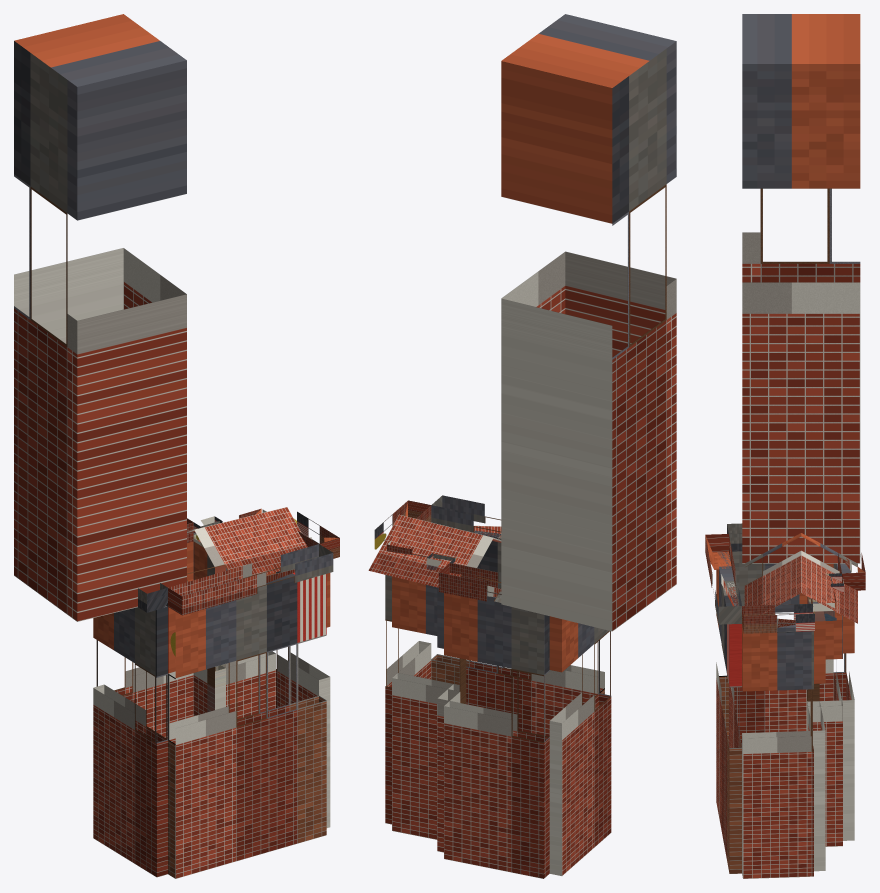
3 views of the same model, side by side, from view 1: azimuth 30°, elevation 25°; view 2: azimuth 150°, elevation 25°; view 3: azimuth 270°, elevation 25° (orthographic). The views are drawn at different scales.
Visible parts, largest first — view 1: 1106964396__chimney_0_xb, 1106964396__wall_3_xb, 1106964396__wall_4_xb, 1106964396_roof_-1_xb, 1106964396__cornice_3, 1106964396__wall_5_xb, 1106964396__wall_1_xb, 1106964396__wall_2_xb, 1106964396__wall_0_xb, 1106964396__cornice_2; view 2: 1106964396__chimney_0_xb, 1106964396__wall_5_xb, 1106964396__wall_4_xb, 1106964396__wall_1_xb, 1106964396__wall_3_xb, 1106964396_roof_1_xb, 1106964396__wall_2_xb, 1106964396__cornice_5, 1106964396__cornice_3, 1106964396__wall_0_xb, 1106964396__cornice_2; view 3: 1106964396__chimney_0_xb, 1106964396__wall_2_xb, 1106964396__wall_3_xb, 1106964396__wall_4_xb, 1106964396__wall_0_xb, 1106964396__wall_1_xb, 1106964396__wall_5_xb, 1106964396_roof_-1_xb, 1106964396_roof_1_xb, 1106964396__cornice_3, 1106964396__cornice_2, 1106964396__cornice_5 (+2 smaller).
Part boxes in pixels (left/top/right/bottom): 1106964396__chimney_0_xb: left=14, top=14, right=186, bottom=621; 1106964396__wall_3_xb: left=168, top=572, right=326, bottom=878; 1106964396__wall_4_xb: left=93, top=606, right=167, bottom=877; 1106964396_roof_-1_xb: left=187, top=507, right=307, bottom=581; 1106964396__cornice_3: left=168, top=544, right=333, bottom=615; 1106964396__wall_5_xb: left=96, top=541, right=193, bottom=738; 1106964396__wall_1_xb: left=207, top=554, right=275, bottom=719; 1106964396__wall_2_xb: left=276, top=571, right=330, bottom=827; 1106964396__wall_0_xb: left=193, top=541, right=225, bottom=715; 1106964396__cornice_2: left=294, top=511, right=339, bottom=558; 1106964396__chimney_0_xb: left=501, top=14, right=676, bottom=631; 1106964396__wall_5_xb: left=444, top=593, right=549, bottom=878; 1106964396__wall_4_xb: left=549, top=616, right=611, bottom=875; 1106964396__wall_1_xb: left=392, top=576, right=466, bottom=839; 1106964396__wall_3_xb: left=431, top=530, right=604, bottom=736; 1106964396_roof_1_xb: left=368, top=514, right=501, bottom=602; 1106964396__wall_2_xb: left=385, top=575, right=431, bottom=824; 1106964396__cornice_5: left=438, top=563, right=501, bottom=601; 1106964396__cornice_3: left=431, top=495, right=501, bottom=538; 1106964396__wall_0_xb: left=437, top=587, right=460, bottom=852; 1106964396__cornice_2: left=374, top=500, right=431, bottom=549; 1106964396__chimney_0_xb: left=742, top=14, right=860, bottom=563; 1106964396__wall_2_xb: left=742, top=624, right=813, bottom=878; 1106964396__wall_3_xb: left=716, top=551, right=741, bottom=873; 1106964396__wall_4_xb: left=732, top=551, right=833, bottom=745; 1106964396__wall_0_xb: left=807, top=596, right=842, bottom=846; 1106964396__wall_1_xb: left=807, top=600, right=825, bottom=871; 1106964396__wall_5_xb: left=833, top=563, right=854, bottom=840; 1106964396_roof_-1_xb: left=744, top=533, right=801, bottom=615; 1106964396_roof_1_xb: left=801, top=533, right=857, bottom=623; 1106964396__cornice_3: left=705, top=534, right=741, bottom=624; 1106964396__cornice_2: left=742, top=603, right=814, bottom=633; 1106964396__cornice_5: left=837, top=553, right=865, bottom=590.
Bounding box in the file's own units: 0.3608 × 1.05 × 0.2036.
Materials: 1 (1 with a texture image).
